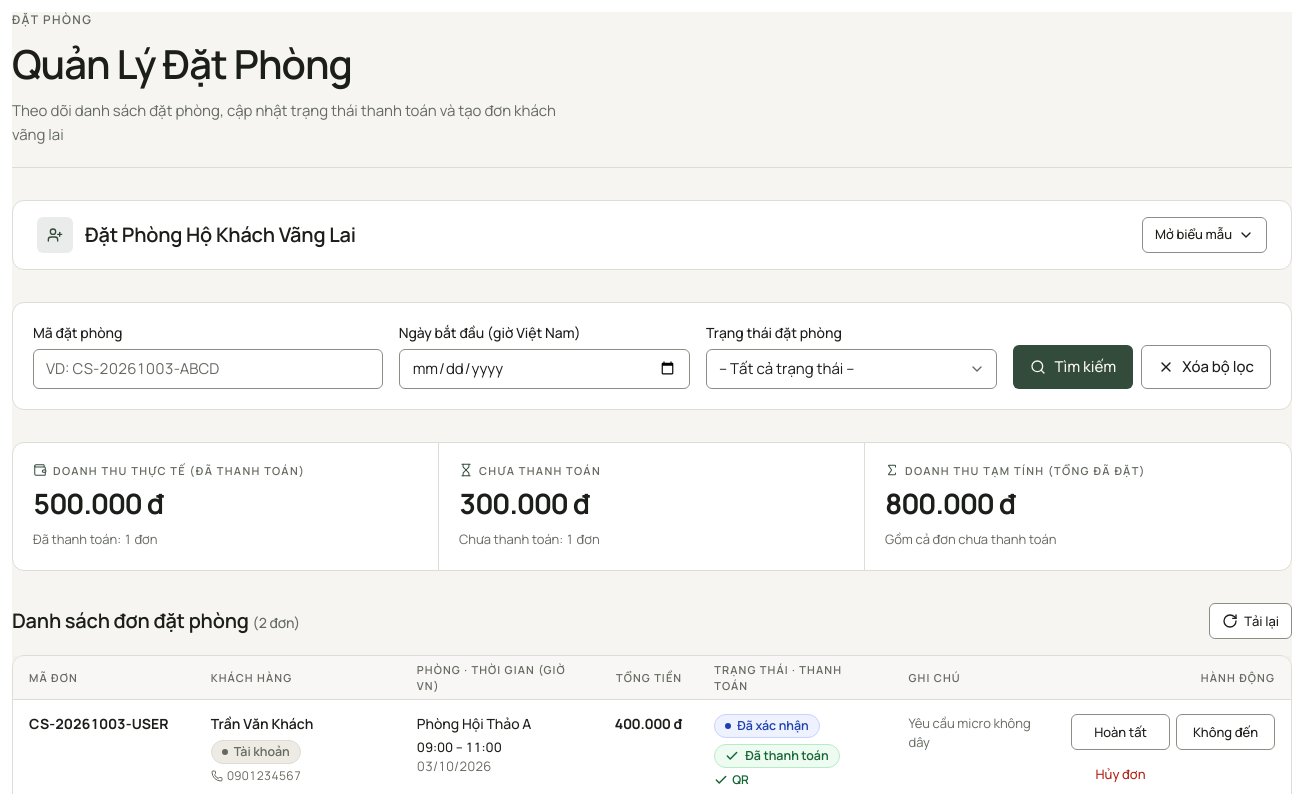
Test: AdminBookingsPage - Booking Management & Search › Revenue KPI Summary and State Transition Actions (Complete / No-Show) › completes confirmed booking when admin clicks Hoàn tất button
Click the button with test id "complete-booking-btn-booking-1".
click(1120, 732)  # box [1071,714,1170,750]
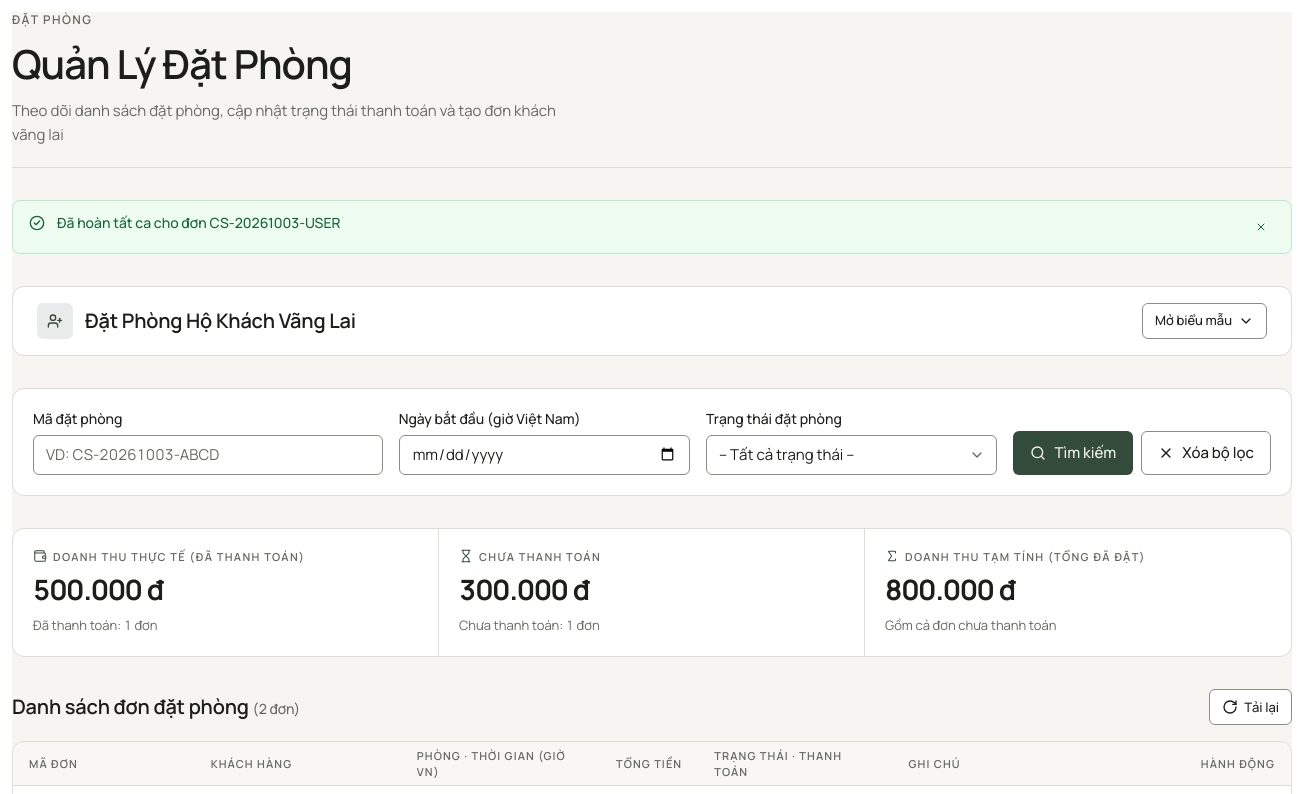
Expected: the text "Đã hoàn tất ca cho đơn CS-20261003-USER" is shown, [57,213,340,232]
